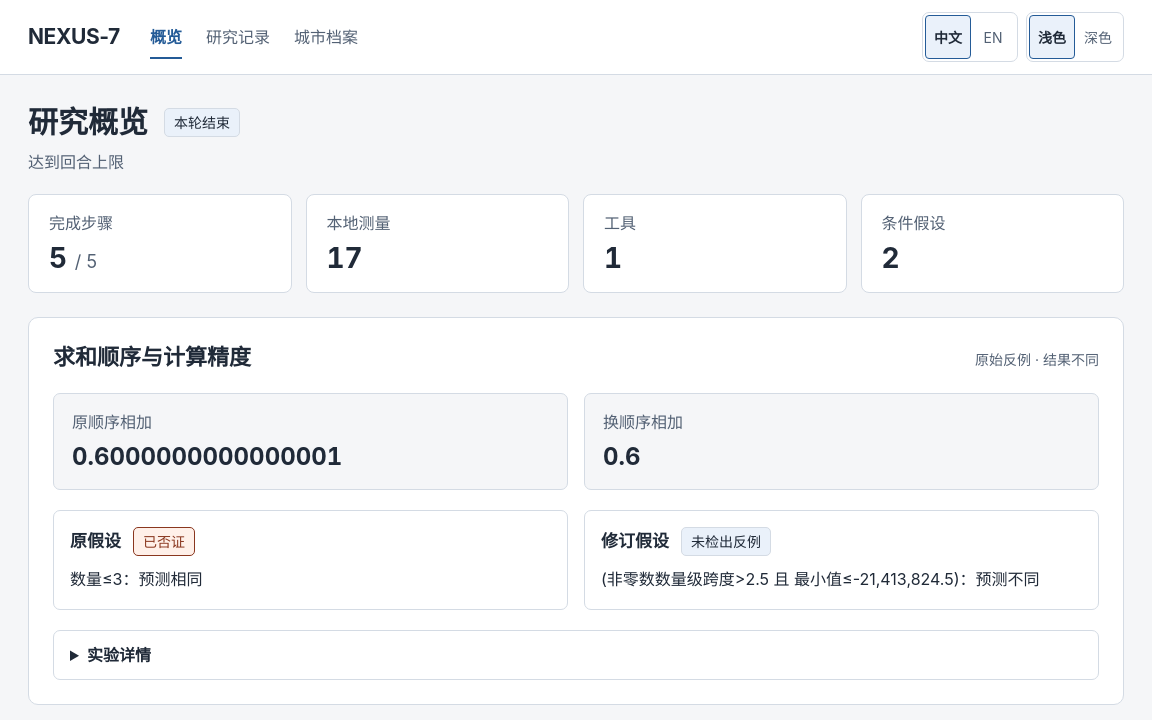
Test case: HumanHome — explicit unit reference fakes, not live research evidence › explains a less-simple revised and condition using its real features and connective
The width and height of the screenshot is (1152, 720).
Check: the text with test id "human-revised-idea" shows "非零数数量级跨度>2.5", box [601, 569, 1040, 589]
Check: the text with test id "human-revised-idea" shows "最小值≤-21,413,824.5", box [601, 569, 1040, 589]
Step 1. Click the button "EN" → (993, 37), box [971, 15, 1015, 59]
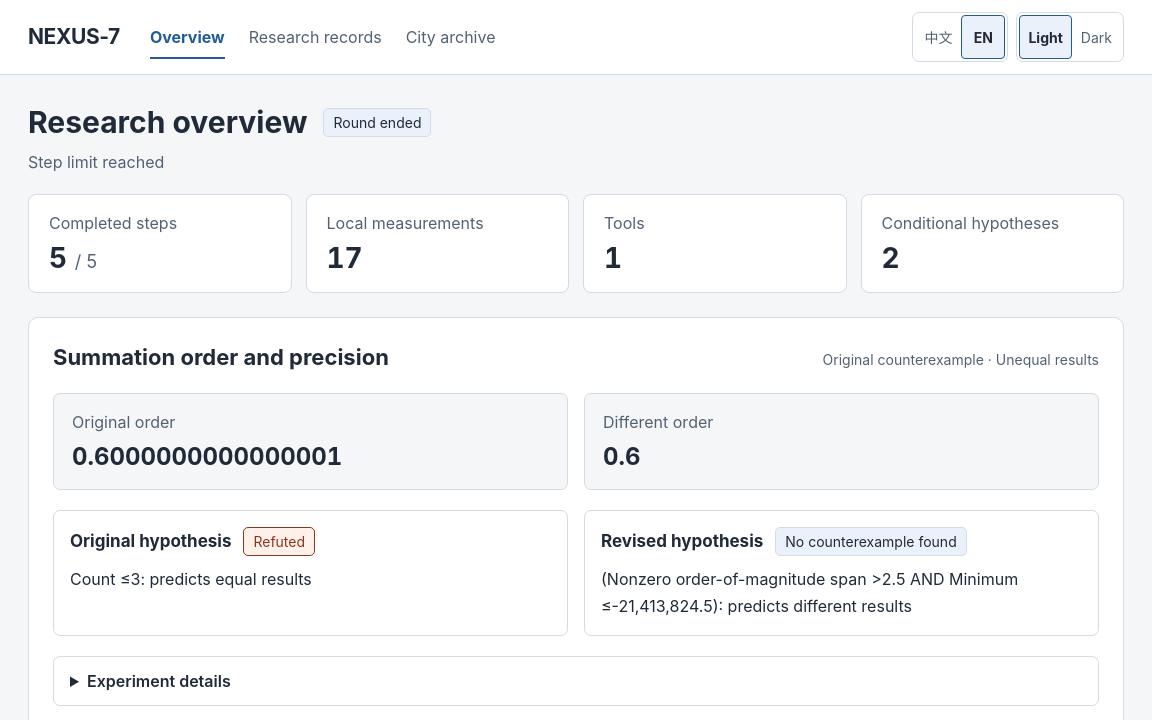
Check: the text with test id "human-revised-idea" shows "Nonzero order-of-magnitude span >2.5", box [601, 569, 1018, 616]
Check: the text with test id "human-revised-idea" shows "AND", box [601, 569, 1018, 616]
Check: the text with test id "human-revised-idea" shows "Minimum ≤-21,413,824.5", box [601, 569, 1018, 616]
